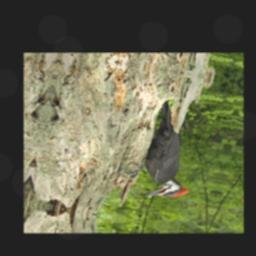Woodpecker: (120, 95, 212, 204)
